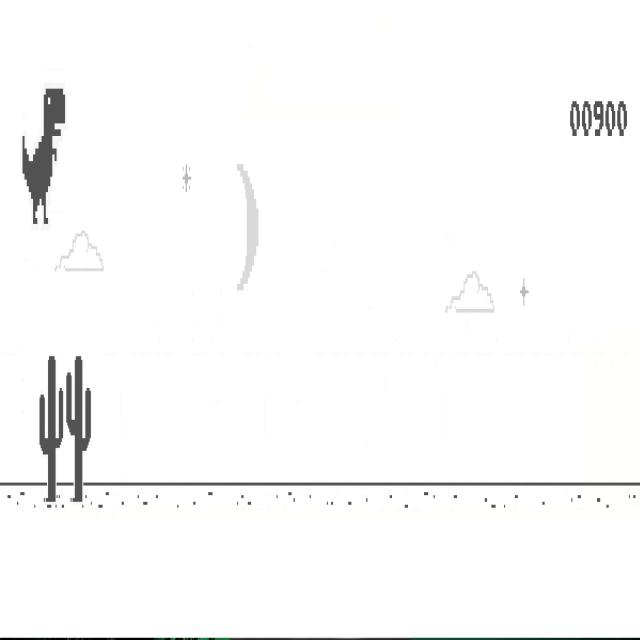cacto: (66, 354, 91, 502), (39, 354, 63, 502)
dino: (21, 87, 66, 226)
